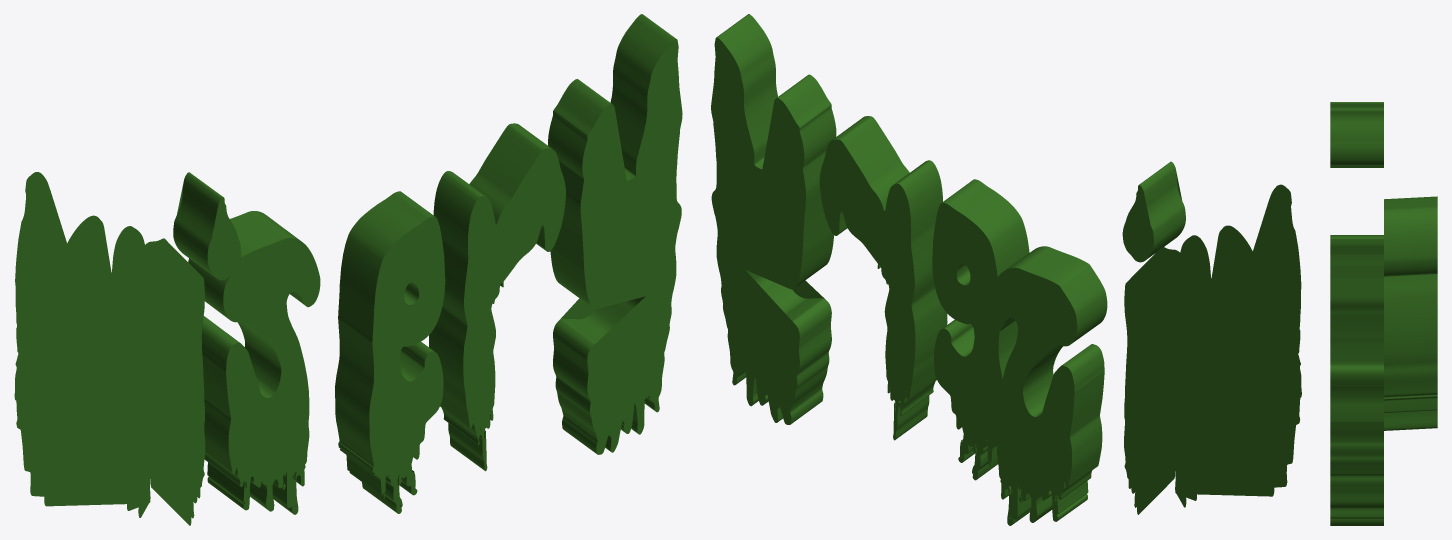
File: midss.fbx
3 renders of one model, left to right at view 1: azimuth 30°, elevation 25°; view 2: azimuth 150°, elevation 25°; view 3: azimuth 270°, elevation 25°, orthographic. The views are drawn at different scales.
Visible parts, largest first — view 1: Path_3, Path_2, Path_10, Path_4, Path_15, Path_18, Path_20; view 2: Path_3, Path_2, Path_4, Path_15, Path_10, Path_18, Path_20; view 3: Path_3, Path_4, Path_20, Path_10.
Boxes of the visible parts, bbox=[...] form: Path_3: bbox=[548, 14, 682, 454]; Path_2: bbox=[14, 172, 150, 517]; Path_10: bbox=[335, 191, 445, 513]; Path_4: bbox=[188, 211, 320, 514]; Path_15: bbox=[429, 123, 565, 471]; Path_18: bbox=[135, 238, 205, 525]; Path_20: bbox=[173, 172, 240, 280]; Path_3: bbox=[711, 14, 836, 424]; Path_2: bbox=[1173, 184, 1301, 507]; Path_4: bbox=[986, 246, 1107, 525]; Path_15: bbox=[819, 116, 947, 440]; Path_10: bbox=[932, 179, 1029, 480]; Path_18: bbox=[1124, 246, 1179, 514]; Path_20: bbox=[1122, 161, 1185, 262]; Path_3: bbox=[1330, 237, 1383, 525]; Path_4: bbox=[1384, 196, 1437, 430]; Path_20: bbox=[1330, 102, 1383, 167]; Path_10: bbox=[1330, 235, 1383, 237].
Size of the model in its own units: 21.32 by 13.38 by 4.
